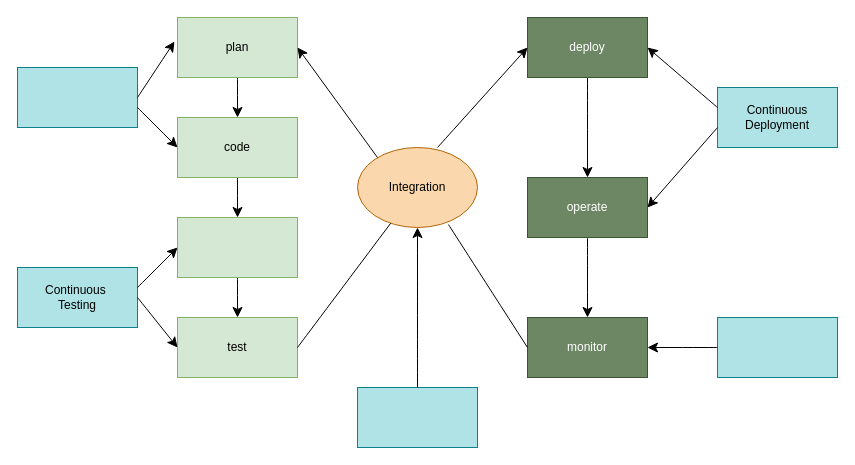
Image size: 855x465. Some labels were removed from this diagram. The shapes that lost their labels are listed below. From the top down, each one's centre as x and y in pixels, then its label:
(77,97): Continuous Development
(237,247): build
(777,347): Continuous Monitoring
(417,417): Continuous Integration
